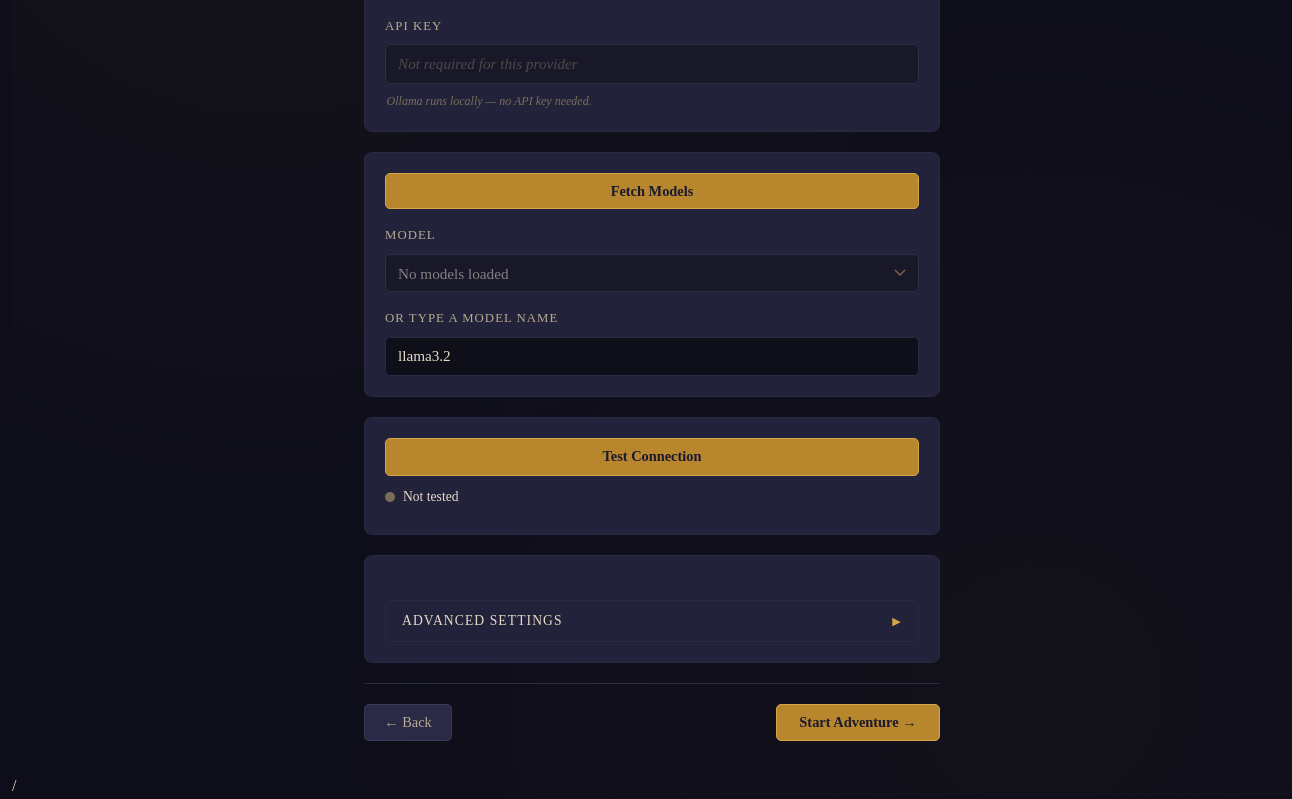
Scenario: ConnectionPage — Start Adventure button › navigates to /character when clicked and enabled
This screenshot has width=1292, height=799.
(page scrolled)
Click the button "Start Adventure →" at (858, 723), box [776,704,940,741]
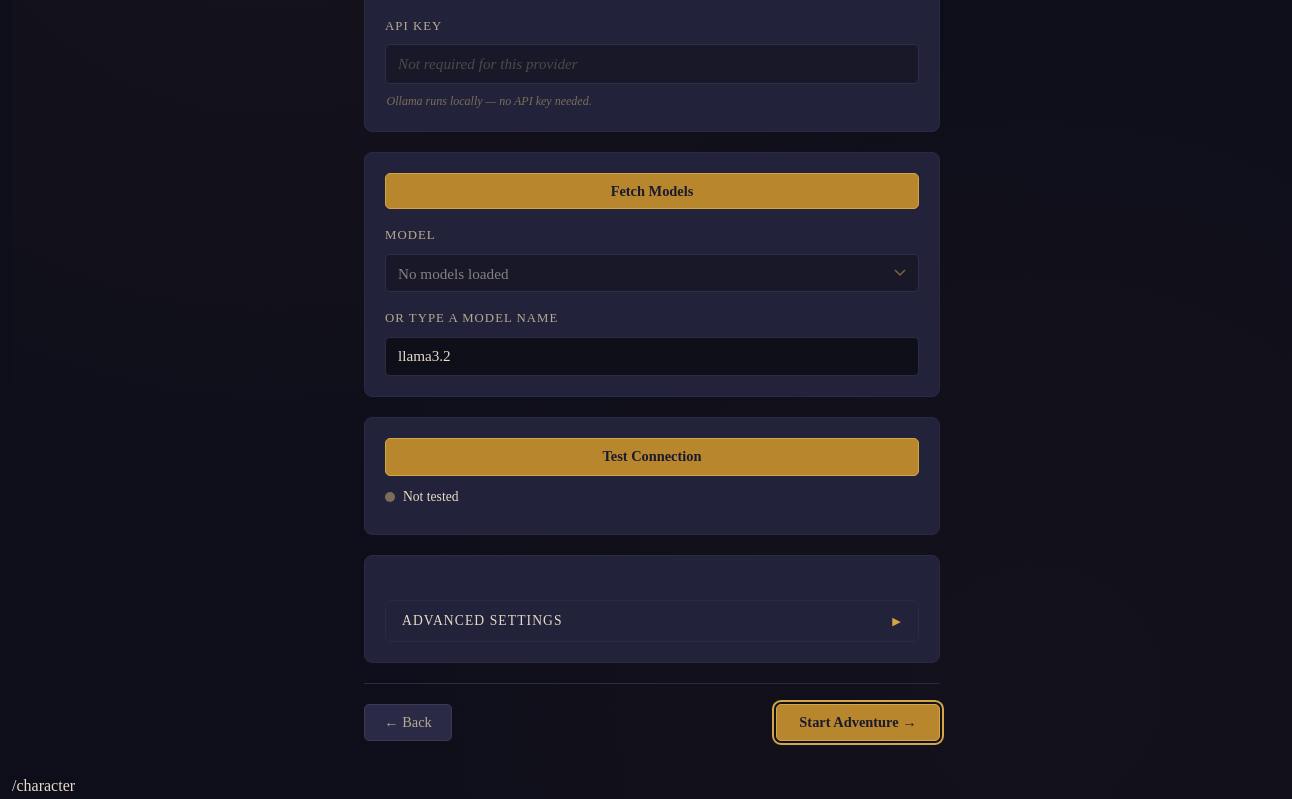
Check: the text with test id "current-location" reads "/character", box [12,777,75,794]
